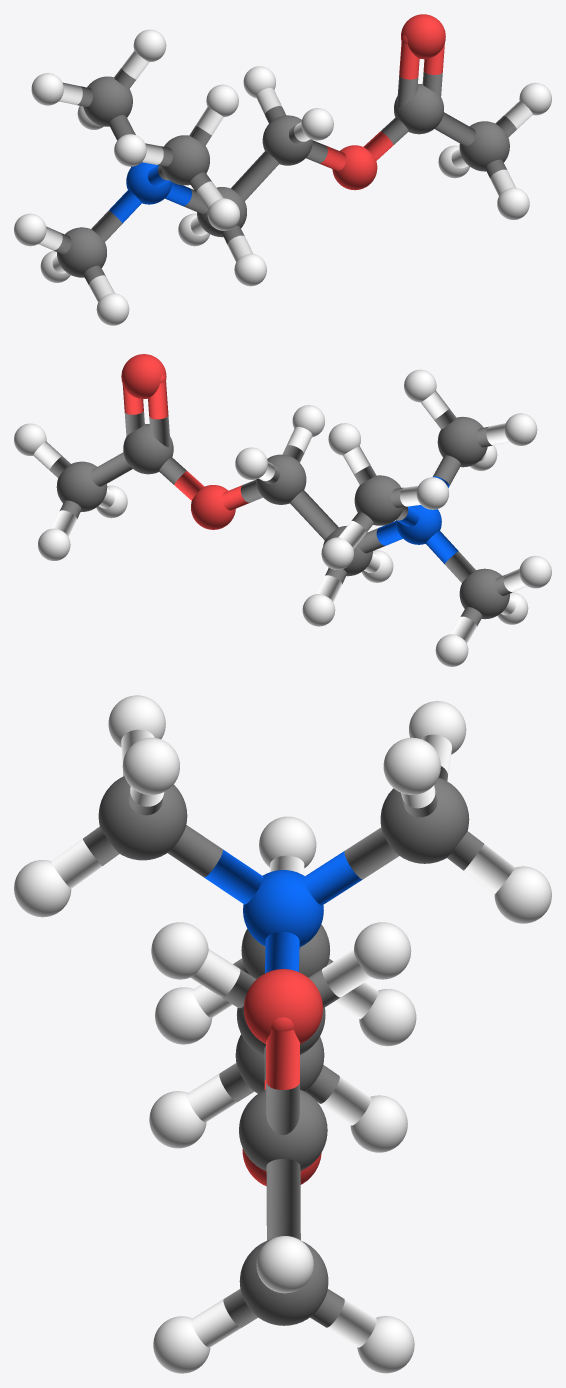
Rendered from acetylcholohne.glb.
The picture shows the model from 3 angles, top to bottom: view 1: azimuth 30°, elevation 25°; view 2: azimuth 150°, elevation 25°; view 3: azimuth 270°, elevation 25°; orthographic projection. The views are drawn at different scales.
Parts seen in each view (by area): view 1: acetyl; view 2: acetyl; view 3: acetyl.
Part boxes in pixels (x1,y1,x2,y2): acetyl: (14,14,551,325); acetyl: (14,354,551,666); acetyl: (14,695,551,1373).
Bounding box in the file's own units: 9.56 × 3.78 × 4.74.
